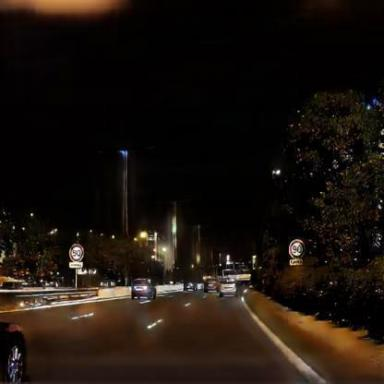Speed_limit_90: (289, 239, 305, 260), (69, 245, 83, 260)
